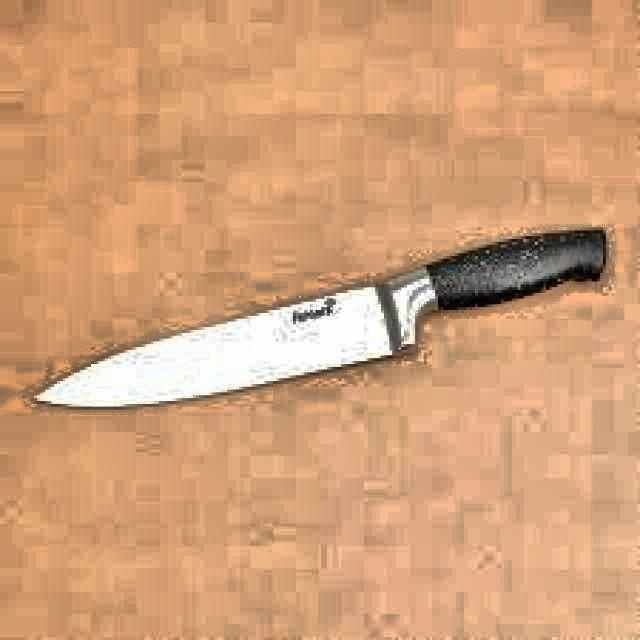knife: (26, 221, 616, 407)
